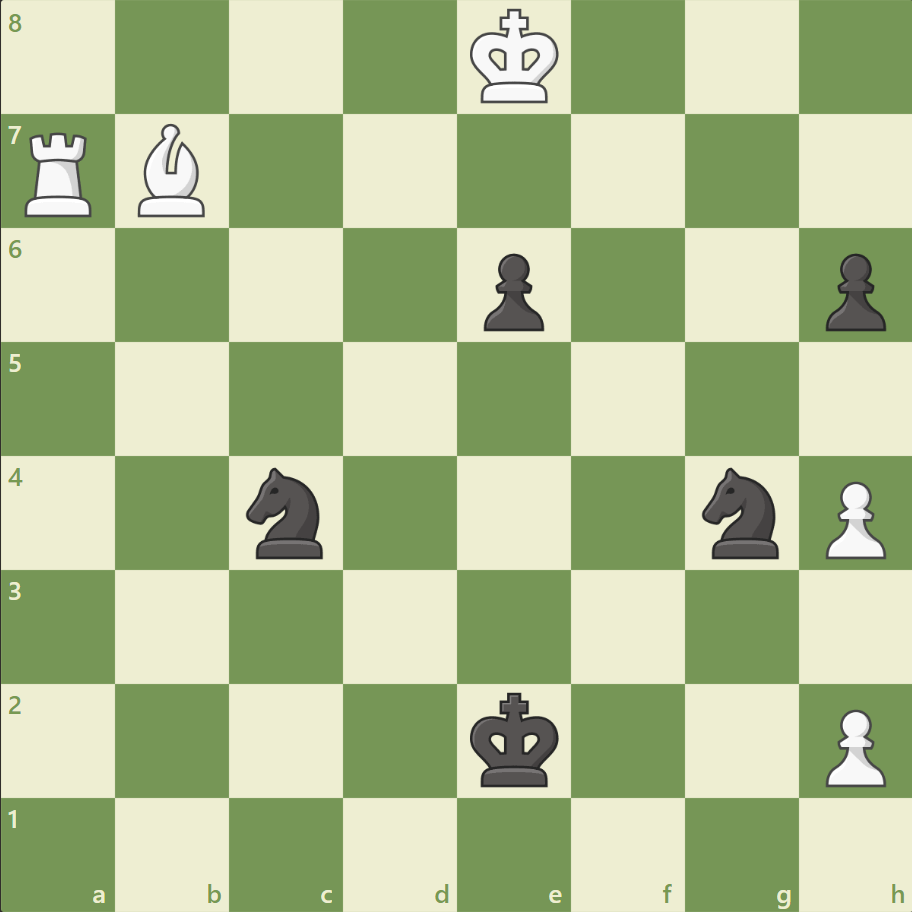B: (131, 120, 215, 222)
K: (465, 4, 565, 112)
P: (815, 473, 889, 564), (815, 700, 889, 791)
R: (19, 125, 102, 222)
k: (465, 685, 565, 793)
n: (238, 461, 335, 564), (692, 461, 789, 564)
p: (474, 246, 549, 337), (815, 246, 889, 337)
